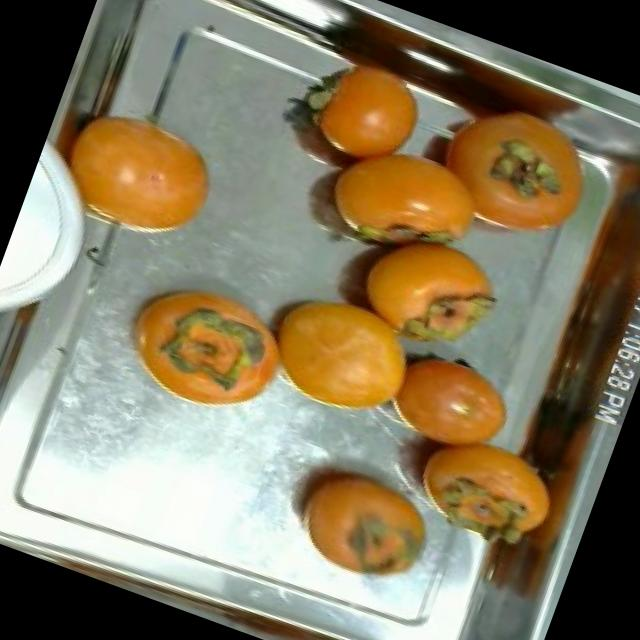Fruit: (29, 81, 244, 273), (236, 263, 434, 441), (260, 437, 458, 608), (104, 269, 302, 437), (391, 410, 577, 570), (274, 42, 446, 196), (361, 324, 535, 469)
